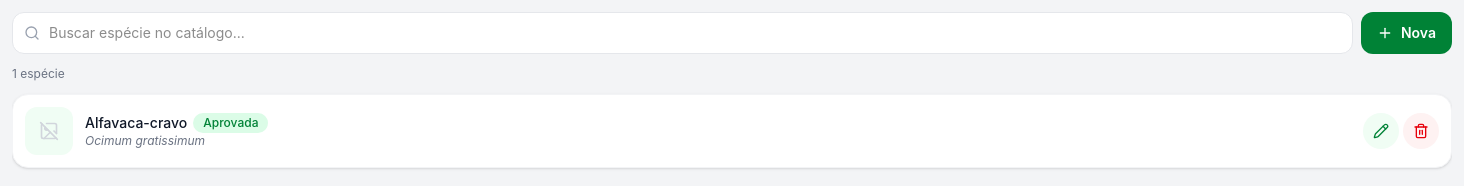
SpeciesCatalogManager › busca ao digitar e substitui a lista pelo resultado
Type "gu" into the field with placeholder "Buscar espécie no catálogo..." at (682, 33), box [12, 12, 1353, 54]
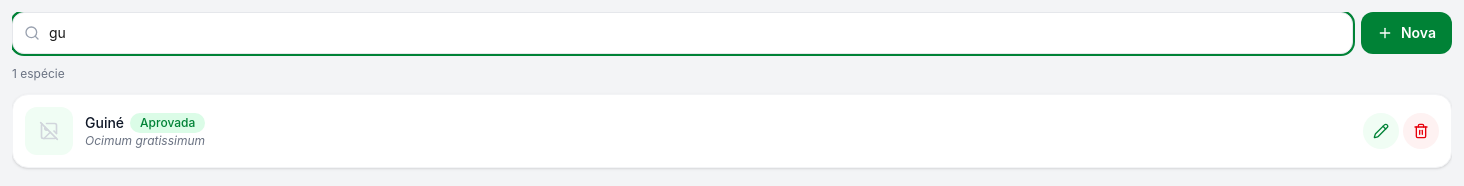
Result: the text "Guiné" is shown at [85, 113, 124, 133]
Result: the text "Alfavaca-cravo" is gone
